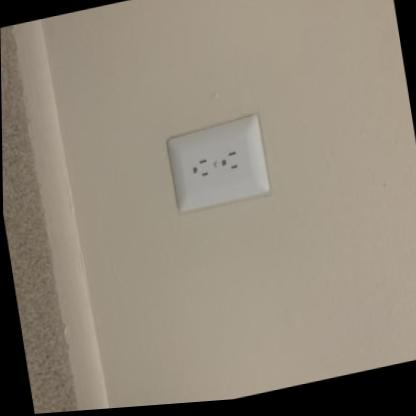OUTLET: (163, 112, 269, 216)
